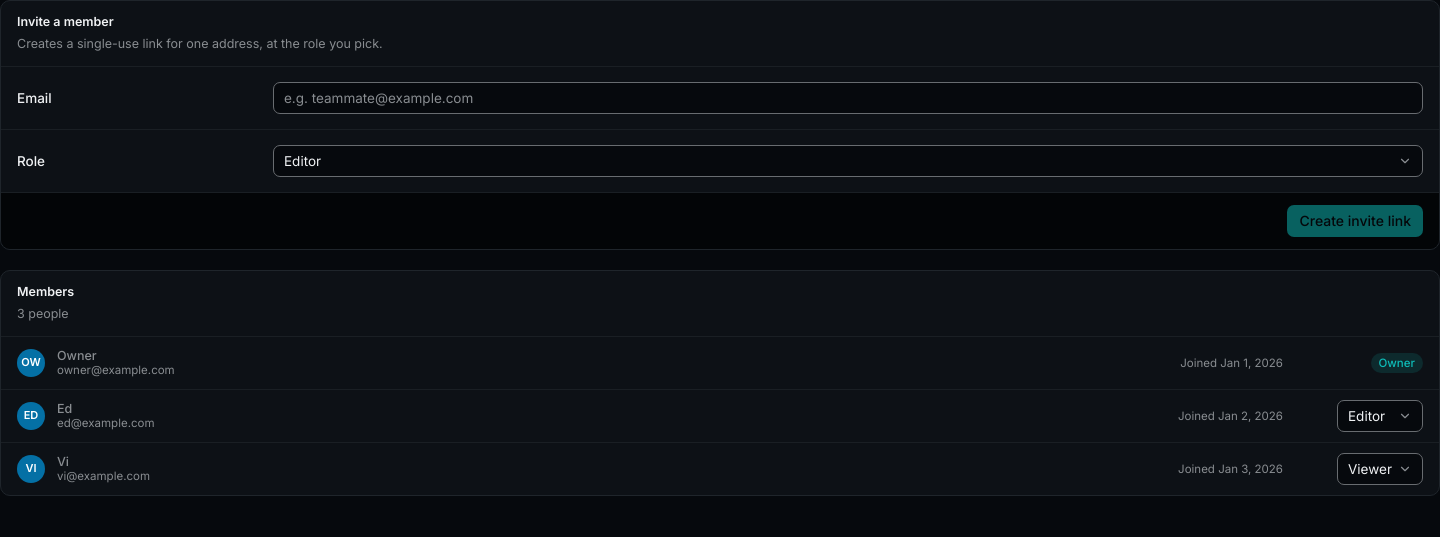
Test: UsersPage — role changes (WS-19) › shows a failed change on the row of the person it was for
The width and height of the screenshot is (1440, 537).
Select "Editor" in the dropdown named "Role for Vi" at coordinates (1380, 468), box [1337, 452, 1423, 484]
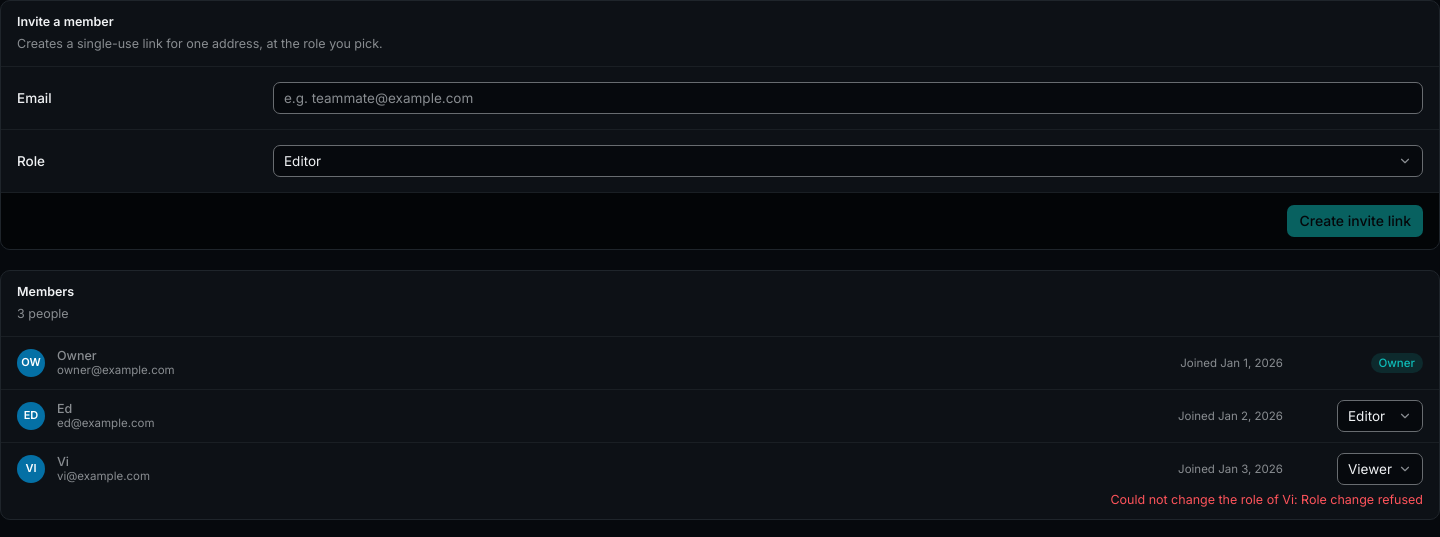
Expected: the message shows "Could not change the role of Vi", [1110, 492, 1423, 506]
